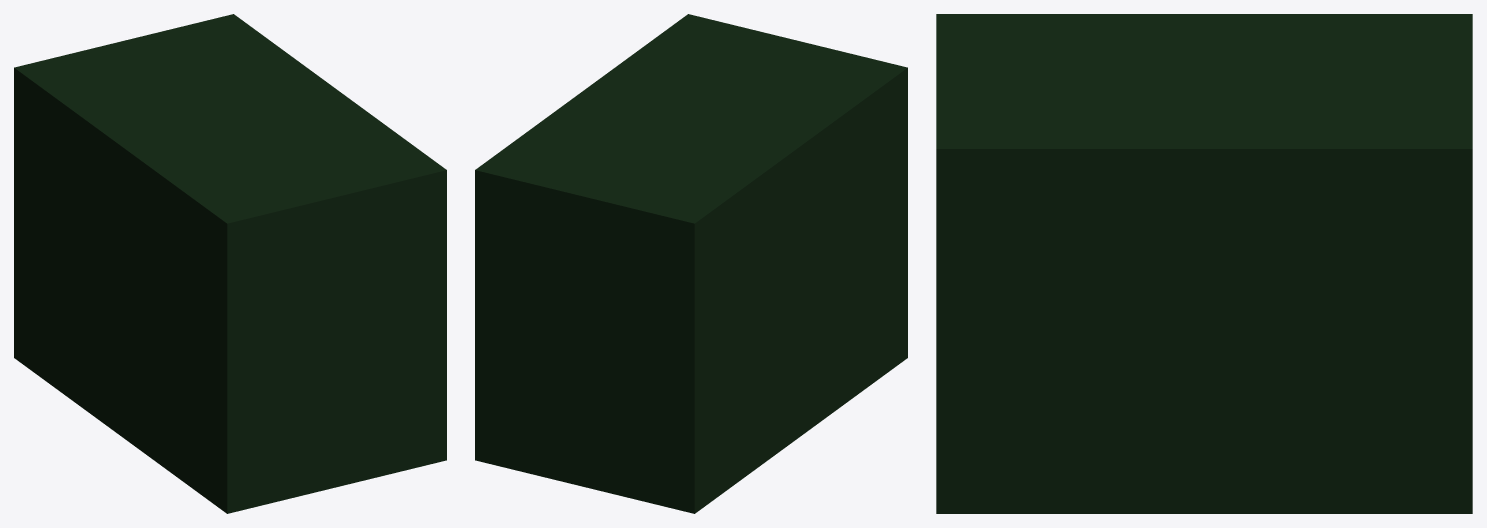
File: glassBoxVar2.fbx
The picture shows the model from 3 angles, left to right: view 1: azimuth 30°, elevation 25°; view 2: azimuth 150°, elevation 25°; view 3: azimuth 270°, elevation 25°; orthographic projection. The views are drawn at different scales.
Parts seen in each view (by area): view 1: GlassBox025; view 2: GlassBox025; view 3: GlassBox025.
Boxes of the visible parts, <box> form: GlassBox025: <box>14,14,446,513</box>; GlassBox025: <box>475,14,907,513</box>; GlassBox025: <box>936,14,1472,513</box>.
Bounding box in the file's own units: 157 × 198 × 264.
